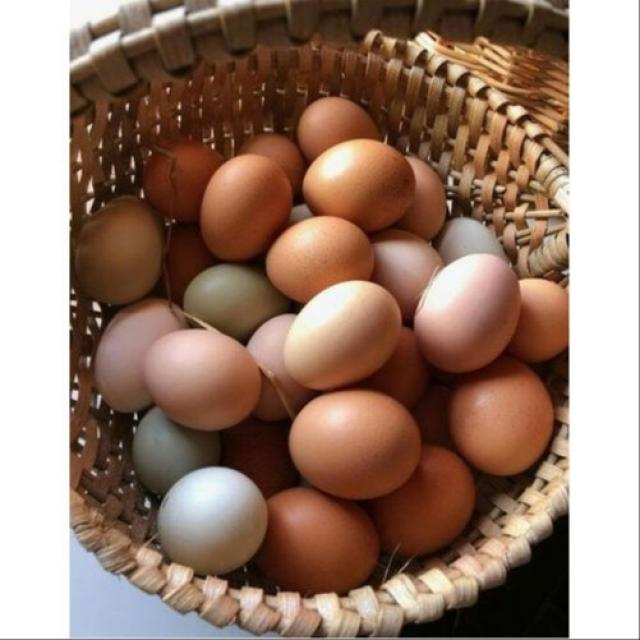Egg: (95, 214, 565, 594), (408, 219, 520, 372), (188, 135, 305, 261), (289, 389, 421, 499), (304, 139, 445, 238), (284, 280, 401, 389), (145, 329, 261, 431), (75, 196, 165, 303), (144, 144, 204, 219)
